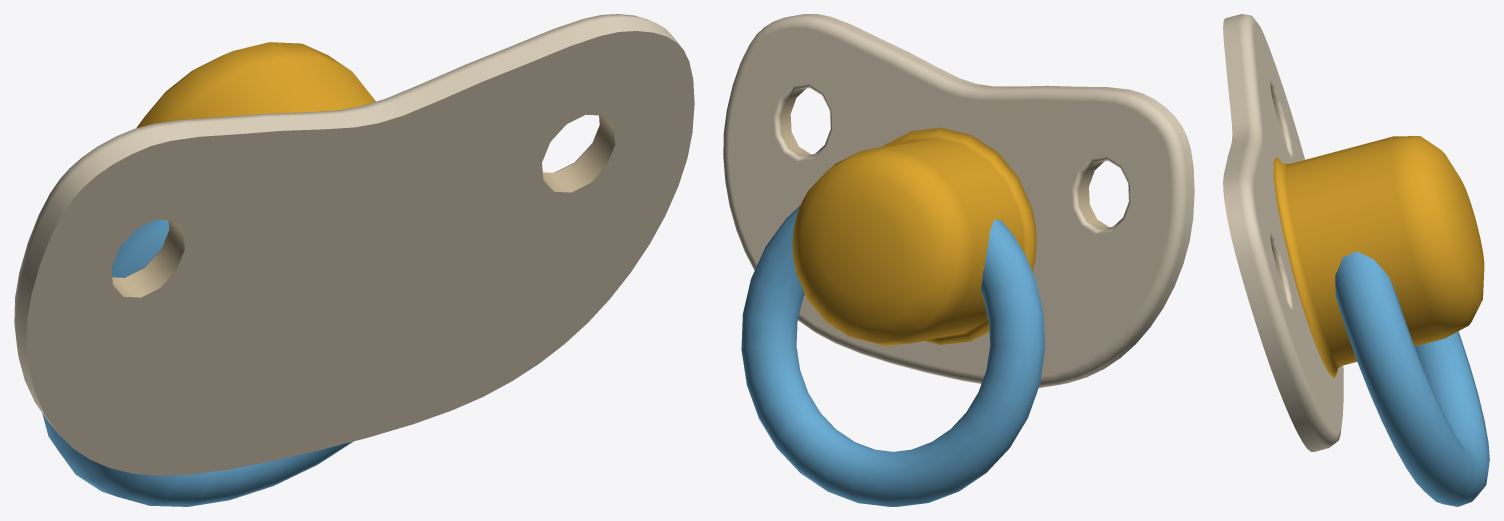
The model's file is Cosmetic_Pacifier.glb.
The picture shows the model from 3 angles, left to right: view 1: azimuth 30°, elevation 25°; view 2: azimuth 150°, elevation 25°; view 3: azimuth 270°, elevation 25°; orthographic projection. The views are drawn at different scales.
Parts seen in each view (by area): view 1: Pacifier, Pacifier_Ring; view 2: Pacifier, Pacifier_Ring; view 3: Pacifier, Pacifier_Ring.
Boxes of the visible parts, x1,y1,x2,y2 form: Pacifier: [14, 14, 694, 475]; Pacifier_Ring: [42, 220, 353, 506]; Pacifier: [723, 14, 1194, 387]; Pacifier_Ring: [741, 206, 1045, 506]; Pacifier: [1223, 14, 1484, 451]; Pacifier_Ring: [1335, 251, 1489, 506].
Size of the model in its own units: 0.2708 by 0.2091 by 0.1303.
